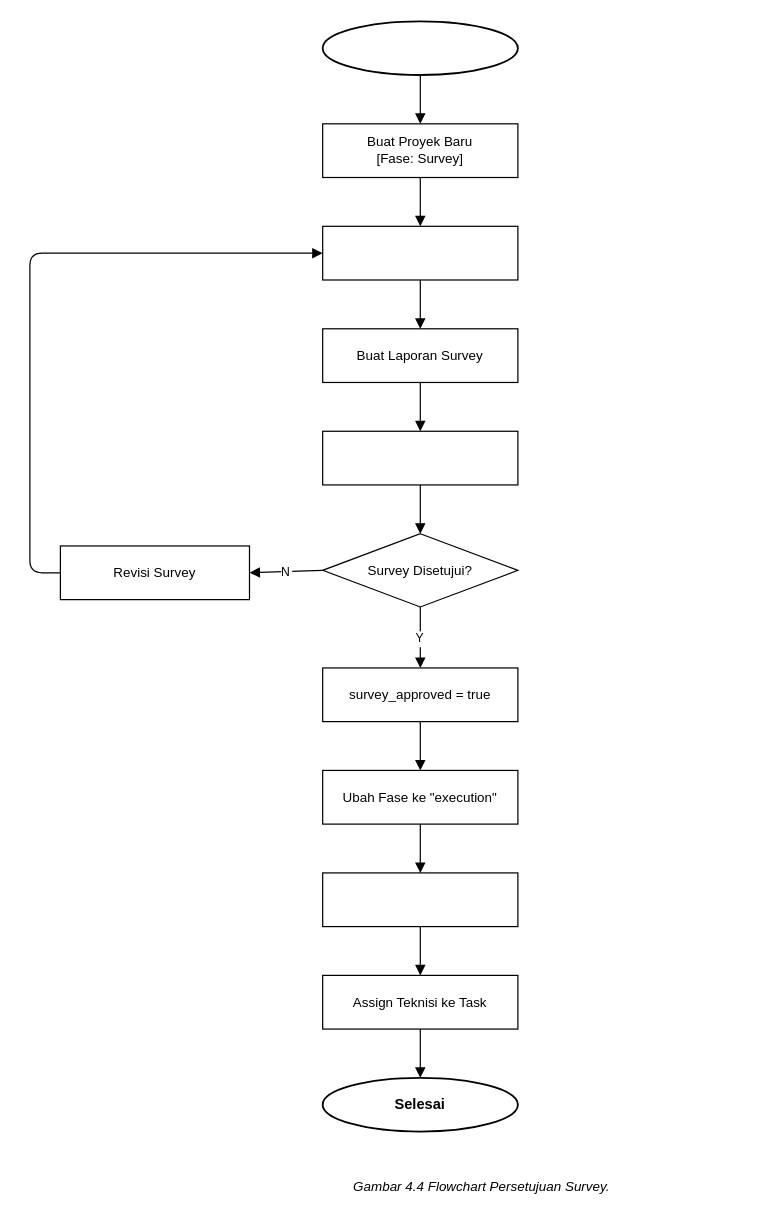
Some shapes in this 759 by 1226 pixel diagram are drawn without their labels. The centre of each missing label's shape, as x and y in pixels:
"Buat Task-Task Proyek" goes at [419,899].
"Laksanakan Survey Lapangan" goes at [419,252].
"Mulai" goes at [419,47].
"PM Review Laporan Survey" goes at [419,457].
